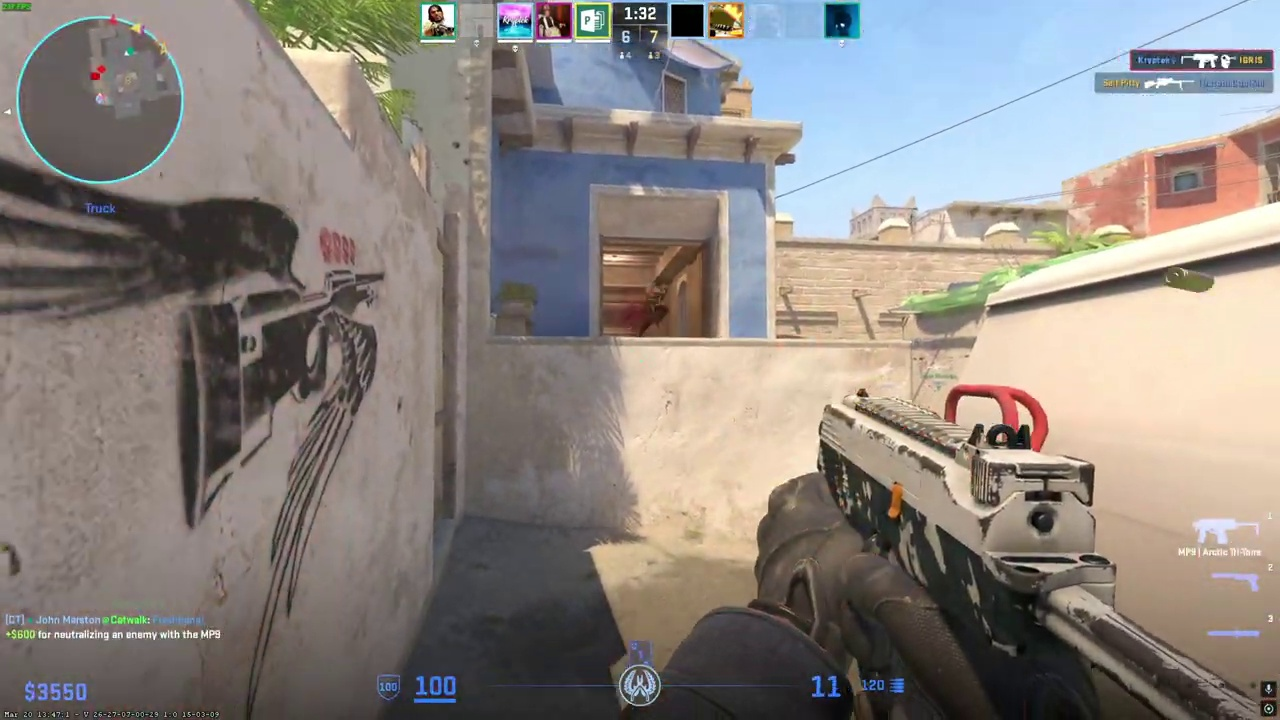Terrorist: (639, 276, 670, 337)
